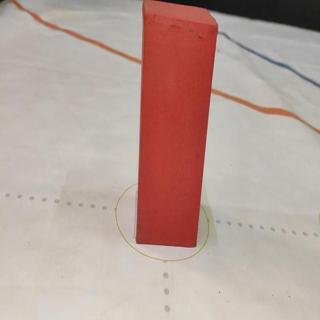redbox: (135, 0, 217, 248)
